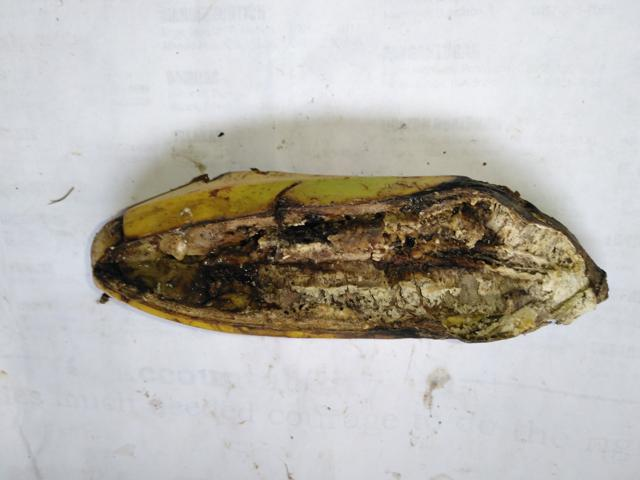rotten: (89, 154, 614, 364)
